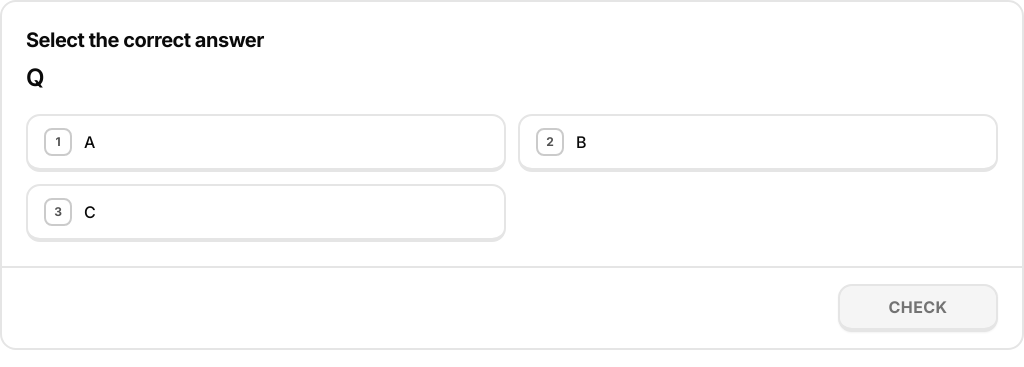
Test: MultipleChoice › reports a correct pick
The width and height of the screenshot is (1024, 367).
Click the radio button labelled "2 B": (550,142) left=518, top=114, right=998, bottom=172
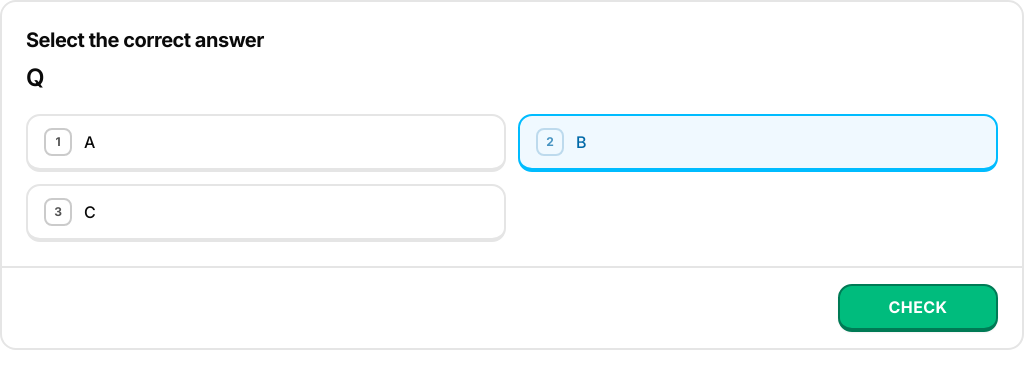
Click the button "Check": (918,308) left=838, top=284, right=998, bottom=332
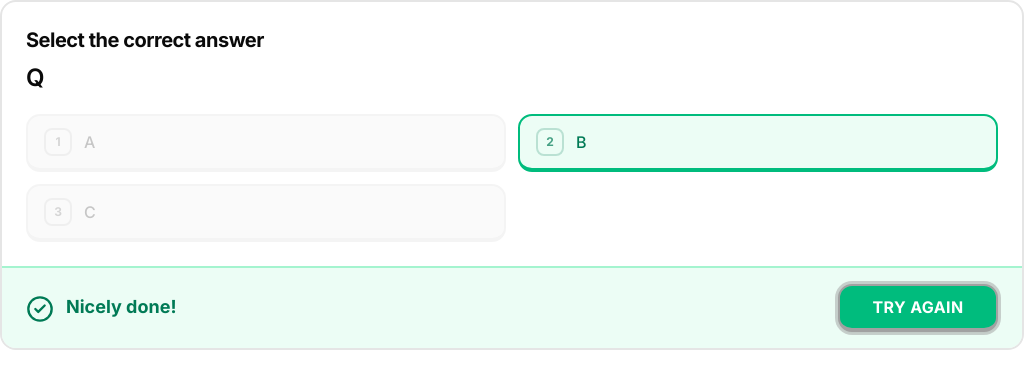
Expected: the text "Nicely done!" is shown, left=66, top=293, right=176, bottom=321
